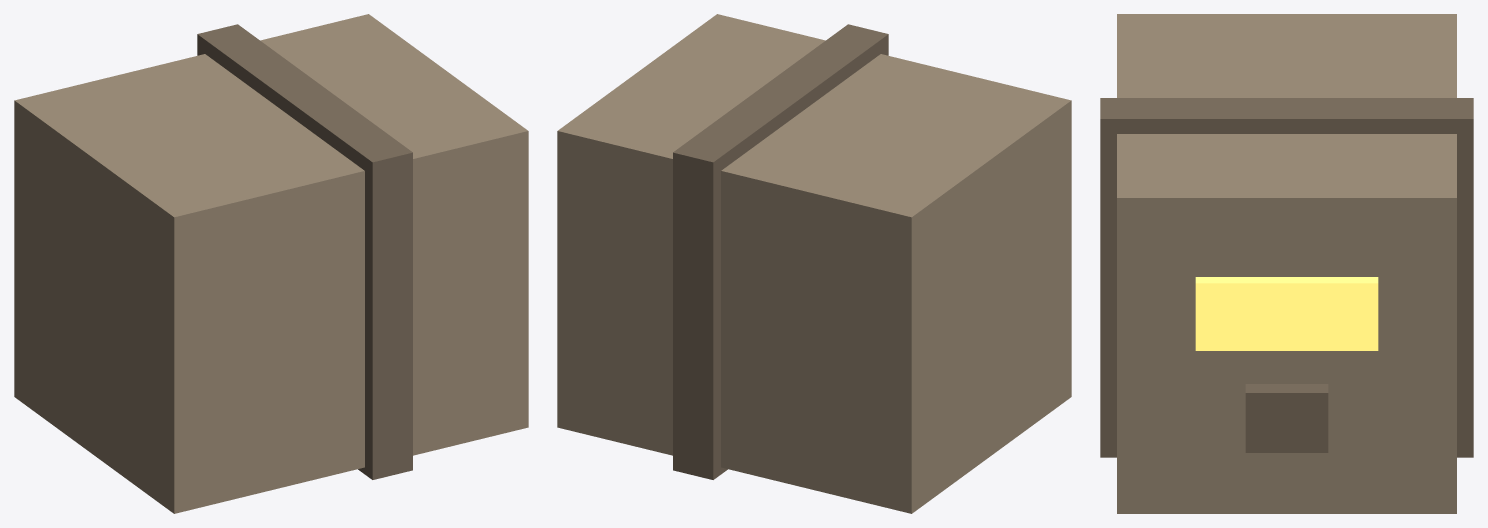
File: refinery-crate-lod1.glb
The picture shows the model from 3 angles, left to right: view 1: azimuth 30°, elevation 25°; view 2: azimuth 150°, elevation 25°; view 3: azimuth 270°, elevation 25°; orthographic projection. The views are drawn at different scales.
Parts seen in each view (by area): view 1: refinery-crate-shell, refinery-crate-band; view 2: refinery-crate-shell, refinery-crate-band; view 3: refinery-crate-shell, refinery-crate-band, refinery-crate-marker, refinery-crate-latch.
Boxes of the visible parts, x1=… form: refinery-crate-shell: x1=14, y1=14, x2=528, y2=513; refinery-crate-band: x1=197, y1=24, x2=412, y2=479; refinery-crate-shell: x1=557, y1=14, x2=1071, y2=513; refinery-crate-band: x1=673, y1=24, x2=888, y2=479; refinery-crate-shell: x1=1117, y1=14, x2=1456, y2=513; refinery-crate-band: x1=1100, y1=98, x2=1473, y2=457; refinery-crate-marker: x1=1195, y1=277, x2=1378, y2=350; refinery-crate-latch: x1=1245, y1=384, x2=1328, y2=452.
Size of the model in its own units: 1.11 by 0.9 by 0.9.
